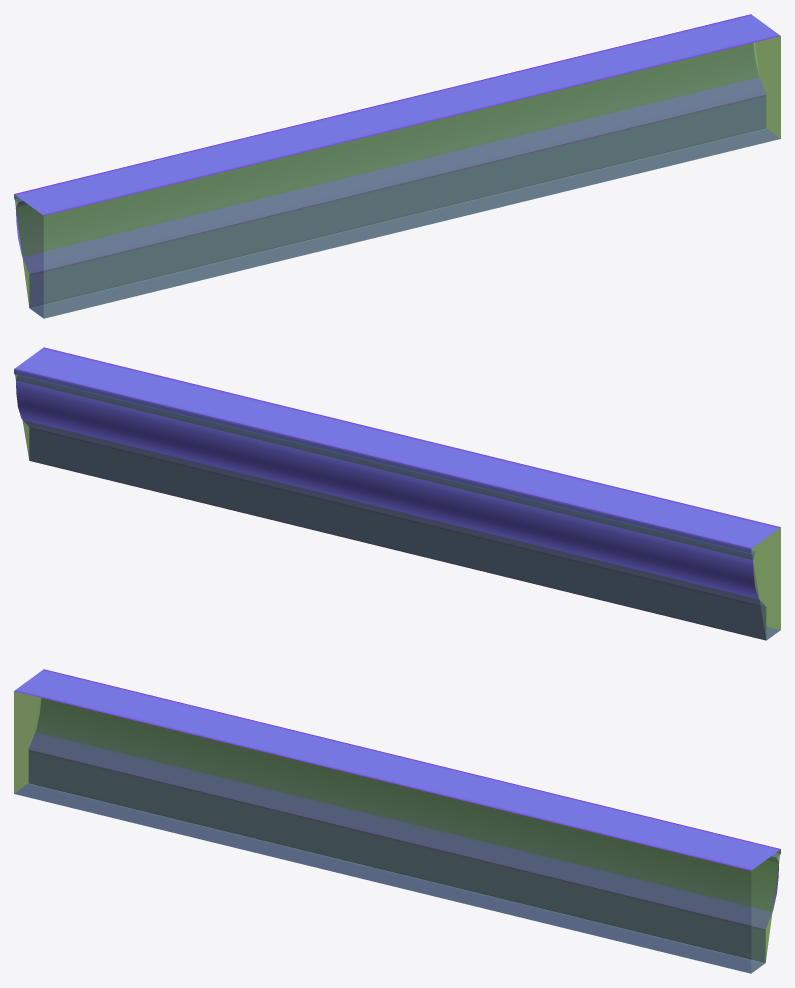
The model's file is F_md_TrimH_3m_01.fbx.
The picture shows the model from 3 angles, top to bottom: view 1: azimuth 30°, elevation 25°; view 2: azimuth 150°, elevation 25°; view 3: azimuth 330°, elevation 25°; orthographic projection.
Parts seen in each view (by area): view 1: F_md_TrimH_3m_01_LOD0, F_md_TrimH_3m_01_col_01; view 2: F_md_TrimH_3m_01_LOD0, F_md_TrimH_3m_01_col_01; view 3: F_md_TrimH_3m_01_LOD0, F_md_TrimH_3m_01_col_01.
Part boxes in pixels (<box>): F_md_TrimH_3m_01_LOD0: <box>14,14,780,318</box>; F_md_TrimH_3m_01_col_01: <box>14,36,780,318</box>; F_md_TrimH_3m_01_LOD0: <box>14,347,780,640</box>; F_md_TrimH_3m_01_col_01: <box>15,374,780,640</box>; F_md_TrimH_3m_01_LOD0: <box>14,669,780,973</box>; F_md_TrimH_3m_01_col_01: <box>14,691,780,973</box>.
Size of what is drawn, in the model's own units: 300 by 40 by 21.02.
